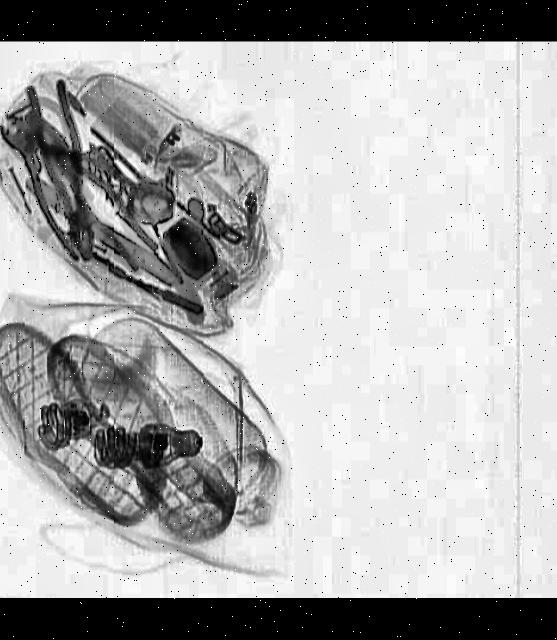Pliers: (12, 98, 170, 274), (0, 84, 155, 263), (23, 75, 110, 264)
